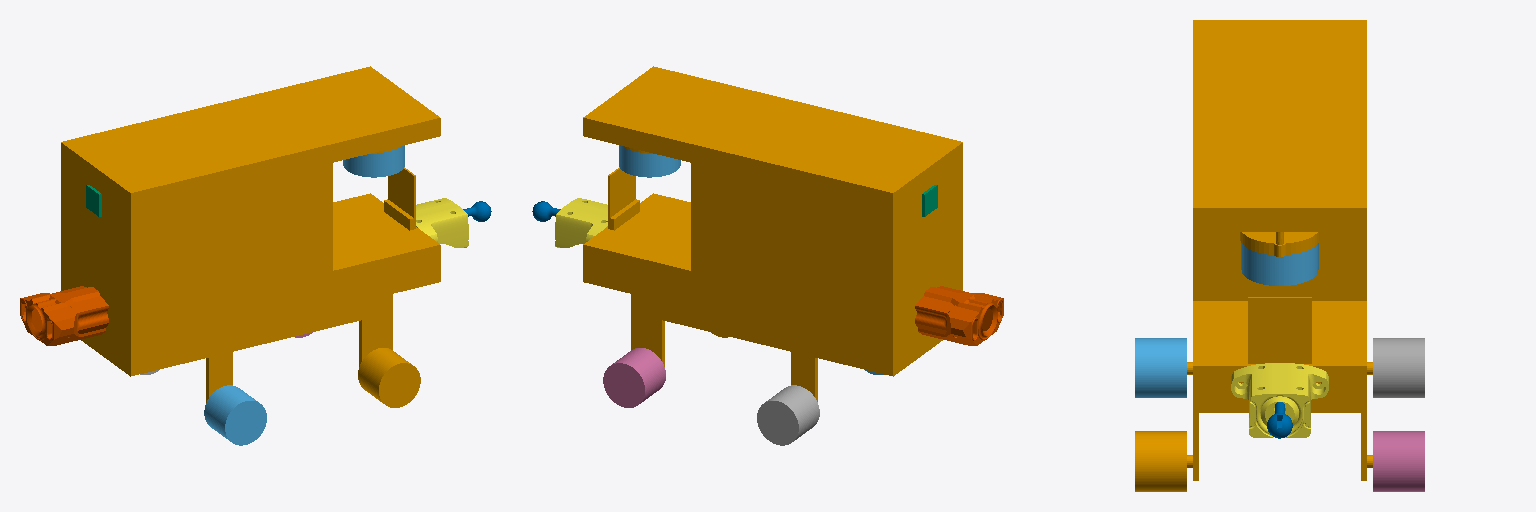
The robot description file, URDF, robot "URDF_to_USD":
<?xml version='1.0' encoding='utf-8'?>
<robot name="URDF_to_USD">
    <link name="teko_body">
        <inertial>
            <origin xyz="-0.03322487786188057 -3.210624819559104e-07 -0.01222742277589171" rpy="0.0 0.0 0.0" />
            <mass value="55.30155380400797" />
            <inertia ixx="0.2786499612735865" iyy="0.6148616643483823" izz="0.5051691379248819" ixy="8.485416470758536e-07" iyz="-2.6893582656831792e-06" ixz="0.01263665637919702" />
        </inertial>
        <visual name="teko_body_visual">
            <origin xyz="0.0 0.0 0.0" rpy="0.0 0.0 0.0" />
            <geometry>
                <mesh filename="meshes/teko_body.stl" scale="0.001 0.001 0.001" />
            </geometry>
        </visual>
        <collision name="teko_body_collision">
            <origin xyz="0.0 0.0 0.0" rpy="0.0 0.0 0.0" />
            <geometry>
                <mesh filename="meshes/teko_body.stl" scale="0.001 0.001 0.001" />
            </geometry>
        </collision>
    </link>
    <link name="teko_lidar">
        <inertial>
            <origin xyz="-1.7763568394002505e-17 -1.0157093023226922e-16 0.013450000000000016" rpy="0.0 -0.0 0.0" />
            <mass value="0.5930812388937148" />
            <inertia ixx="0.00016831843253549243" iyy="0.0001683184325355011" izz="0.0002651102791916809" ixy="-1.417197381670121e-18" iyz="3.2429099405817336e-19" ixz="-4.336808689942018e-19" />
        </inertial>
        <visual name="teko_lidar_visual">
            <origin xyz="-0.1376 0.0 0.0455" rpy="3.141592653589793 -0.0 0.0" />
            <geometry>
                <mesh filename="meshes/teko_lidar.stl" scale="0.001 0.001 0.001" />
            </geometry>
        </visual>
        <collision name="teko_lidar_collision">
            <origin xyz="-0.1376 0.0 0.0455" rpy="3.141592653589793 -0.0 0.0" />
            <geometry>
                <mesh filename="meshes/teko_lidar.stl" scale="0.001 0.001 0.001" />
            </geometry>
        </collision>
    </link>
    <link name="teko_camera">
        <inertial>
            <origin xyz="-1.479114197289397e-33 -0.035 0.0015000000000000213" rpy="0.0 -0.0 0.0" />
            <mass value="0.014130001214191378" />
            <inertia ixx="6.888377646920279e-07" iyy="7.465349676462276e-07" izz="1.414177730516831e-06" ixy="3.5214296447818196e-22" iyz="-2.710505431213761e-20" ixz="-9.151013280472862e-22" />
        </inertial>
        <visual name="teko_camera_visual">
            <origin xyz="-2.6023744481881267e-18 -0.0775 -0.17250000000000001" rpy="-1.5707963267948966 1.5707963267948966 0" />
            <geometry>
                <mesh filename="meshes/teko_camera.stl" scale="0.001 0.001 0.001" />
            </geometry>
        </visual>
        <collision name="teko_camera_collision">
            <origin xyz="-2.6023744481881267e-18 -0.0775 -0.17250000000000001" rpy="-1.5707963267948966 1.5707963267948966 0" />
            <geometry>
                <mesh filename="meshes/teko_camera.stl" scale="0.001 0.001 0.001" />
            </geometry>
        </collision>
    </link>
    <link name="teko_connect_male">
        <inertial>
            <origin xyz="1.2851451110364246e-05 0.012508471421193237 0.028637477444663766" rpy="0.0 -0.0 0.0" />
            <mass value="0.6070410060978664" />
            <inertia ixx="0.00021799578145698453" iyy="0.0003112272271409422" izz="0.00018351696205621887" ixy="1.2573674757801726e-07" iyz="-2.1845249203090826e-05" ixz="-2.9472485848962832e-08" />
        </inertial>
        <visual name="teko_connect_male_visual">
            <origin xyz="0.0004507494942305308 -0.05551125236737327 -0.17250000000000001" rpy="1.5707963267948968 -1.5707963267948966 0" />
            <geometry>
                <mesh filename="meshes/teko_connect_male.stl" scale="0.001 0.001 0.001" />
            </geometry>
        </visual>
        <collision name="teko_connect_male_collision">
            <origin xyz="0.0004507494942305308 -0.05551125236737327 -0.17250000000000001" rpy="1.5707963267948968 -1.5707963267948966 0" />
            <geometry>
                <mesh filename="meshes/teko_connect_male.stl" scale="0.001 0.001 0.001" />
            </geometry>
        </collision>
    </link>
    <link name="teko_pin">
        <inertial>
            <origin xyz="-0.0021138833462986018 4.895877659592601e-06 0.028069331254574975" rpy="0.0 -0.0 0.0" />
            <mass value="0.04124822257656457" />
            <inertia ixx="4.970374219001247e-06" iyy="4.978093813264549e-06" izz="1.401522672915713e-06" ixy="1.8001458984546494e-11" iyz="-1.0585795096708065e-09" ixz="4.563625663486044e-07" />
        </inertial>
        <visual name="teko_pin_visual">
            <origin xyz="0.054917629052547226 0.00022318111558906358 -0.22340000000000002" rpy="-3.141592653589793 -1.5707963267948966 0" />
            <geometry>
                <mesh filename="meshes/teko_pin.stl" scale="0.001 0.001 0.001" />
            </geometry>
        </visual>
        <collision name="teko_pin_collision">
            <origin xyz="0.054917629052547226 0.00022318111558906358 -0.22340000000000002" rpy="-3.141592653589793 -1.5707963267948966 0" />
            <geometry>
                <mesh filename="meshes/teko_pin.stl" scale="0.001 0.001 0.001" />
            </geometry>
        </collision>
    </link>
    <link name="teko_connect_female">
        <inertial>
            <origin xyz="-0.05272051512398969 -0.00014116164225701528 0.029277598163811727" rpy="0.0 -0.0 0.0" />
            <mass value="0.7378276822773233" />
            <inertia ixx="0.0004584022715899243" iyy="0.00035624680955673865" izz="0.0002877800509507389" ixy="1.1841968589660358e-07" iyz="3.5006063005911777e-07" ixz="-9.997220132536636e-06" />
        </inertial>
        <visual name="teko_connect_female_visual">
            <origin xyz="0.01579675177311726 0.0014317706669016526 -0.17256471994939027" rpy="-1.570796326794907 1.5633679107606986 -1.5707963267948968" />
            <geometry>
                <mesh filename="meshes/teko_connect_female.stl" scale="0.001 0.001 0.001" />
            </geometry>
        </visual>
        <collision name="teko_connect_female_collision">
            <origin xyz="0.01579675177311726 0.0014317706669016526 -0.17256471994939027" rpy="-1.570796326794907 1.5633679107606986 -1.5707963267948968" />
            <geometry>
                <mesh filename="meshes/teko_connect_female.stl" scale="0.001 0.001 0.001" />
            </geometry>
        </collision>
    </link>
    <link name="teko_FL">
        <inertial>
            <origin xyz="-3.552713678800501e-17 3.552713678800501e-17 0.020200000000000138" rpy="0.0 -0.0 0.0" />
            <mass value="0.5429860236533911" />
            <inertia ixx="0.000147833694935387" iyy="0.00014783369493538527" izz="0.0001479607118097491" ixy="0.0" iyz="-1.734723475976807e-18" ixz="-1.734723475976807e-18" />
        </inertial>
        <visual name="teko_FL_visual">
            <origin xyz="-0.10093 -0.1625 -0.0723" rpy="1.5707963267948966 -0.0 0.0" />
            <geometry>
                <mesh filename="meshes/teko_FL.stl" scale="0.001 0.001 0.001" />
            </geometry>
        </visual>
        <collision name="teko_FL_collision">
            <origin xyz="-0.10093 -0.1625 -0.0723" rpy="1.5707963267948966 -0.0 0.0" />
            <geometry>
                <mesh filename="meshes/teko_FL.stl" scale="0.001 0.001 0.001" />
            </geometry>
        </collision>
    </link>
    <link name="teko_BL">
        <inertial>
            <origin xyz="-5.329070518200751e-17 3.552713678800501e-17 0.020200000000000155" rpy="0.0 -0.0 0.0" />
            <mass value="0.5429860236533901" />
            <inertia ixx="0.0001478336949353766" iyy="0.0001478336949353818" izz="0.00014796071180974216" ixy="-1.734723475976807e-18" iyz="0.0" ixz="-1.3010426069826053e-18" />
        </inertial>
        <visual name="teko_BL_visual">
            <origin xyz="0.07007 -0.1625 -0.0723" rpy="1.5707963267948966 -0.0 0.0" />
            <geometry>
                <mesh filename="meshes/teko_BL.stl" scale="0.001 0.001 0.001" />
            </geometry>
        </visual>
        <collision name="teko_BL_collision">
            <origin xyz="0.07007 -0.1625 -0.0723" rpy="1.5707963267948966 -0.0 0.0" />
            <geometry>
                <mesh filename="meshes/teko_BL.stl" scale="0.001 0.001 0.001" />
            </geometry>
        </collision>
    </link>
    <link name="teko_FR">
        <inertial>
            <origin xyz="-1.7763568394002505e-17 -7.105427357601002e-17 0.0201" rpy="0.0 -0.0 0.0" />
            <mass value="0.5402979740313447" />
            <inertia ixx="0.00014637604468200477" iyy="0.0001463760446820065" izz="0.00014722823303840726" ixy="-1.734723475976807e-18" iyz="0.0" ixz="1.734723475976807e-18" />
        </inertial>
        <visual name="teko_FR_visual">
            <origin xyz="-0.10093 0.1625 -0.0725" rpy="-1.5707963267948966 -0.0 0.0" />
            <geometry>
                <mesh filename="meshes/teko_FR.stl" scale="0.001 0.001 0.001" />
            </geometry>
        </visual>
        <collision name="teko_FR_collision">
            <origin xyz="-0.10093 0.1625 -0.0725" rpy="-1.5707963267948966 -0.0 0.0" />
            <geometry>
                <mesh filename="meshes/teko_FR.stl" scale="0.001 0.001 0.001" />
            </geometry>
        </collision>
    </link>
    <link name="teko_BR">
        <inertial>
            <origin xyz="-5.329070518200751e-17 -7.105427357601002e-17 0.0201" rpy="0.0 -0.0 0.0" />
            <mass value="0.5402979740313437" />
            <inertia ixx="0.00014637604468200824" iyy="0.00014637604468200477" izz="0.00014722823303840726" ixy="8.673617379884035e-19" iyz="0.0" ixz="0.0" />
        </inertial>
        <visual name="teko_BR_visual">
            <origin xyz="0.07007 0.1625 -0.0725" rpy="-1.5707963267948966 -0.0 0.0" />
            <geometry>
                <mesh filename="meshes/teko_BR.stl" scale="0.001 0.001 0.001" />
            </geometry>
        </visual>
        <collision name="teko_BR_collision">
            <origin xyz="0.07007 0.1625 -0.0725" rpy="-1.5707963267948966 -0.0 0.0" />
            <geometry>
                <mesh filename="meshes/teko_BR.stl" scale="0.001 0.001 0.001" />
            </geometry>
        </collision>
    </link>
    <joint name="teko_connect_male_Deslizador-19" type="prismatic">
        <origin xyz="7.336e-05 0.009346610000000002 0.0509" rpy="0.0 -0.0 -1.5707963267948966" />
        <parent link="teko_connect_male" />
        <child link="teko_pin" />
        <axis xyz="0.0 0.0 1.0" />
        <limit lower="-0.015" upper="0.0" effort="1000000" velocity="1000000" />
    </joint>
    <joint name="teko_body_Rígido-29" type="fixed">
        <origin xyz="0.17250000000000001 0.0 -0.0475" rpy="-1.5707963267948966 -0.0 -1.5707963267948966" />
        <parent link="teko_body" />
        <child link="teko_connect_male" />
    </joint>
    <joint name="teko_body_Rígido-30" type="fixed">
        <origin xyz="-0.17250000000000001 0.0 -0.01" rpy="-0.0 -1.5707963267948966 0" />
        <parent link="teko_body" />
        <child link="teko_connect_female" />
    </joint>
    <joint name="teko_body_Revolucionar-31" type="continuous">
        <origin xyz="0.10093 -0.0725 -0.1625" rpy="1.5707963267948966 -0.0 0.0" />
        <parent link="teko_body" />
        <child link="teko_FR" />
        <axis xyz="0.0 0.0 1.0" />
    </joint>
    <joint name="teko_body_Revolucionar-32" type="continuous">
        <origin xyz="0.10093 0.0723 -0.1625" rpy="-1.5707963267948966 -0.0 0.0" />
        <parent link="teko_body" />
        <child link="teko_FL" />
        <axis xyz="0.0 0.0 1.0" />
    </joint>
    <joint name="teko_body_Revolucionar-33" type="continuous">
        <origin xyz="-0.07007 -0.0725 -0.1625" rpy="1.5707963267948966 -0.0 0.0" />
        <parent link="teko_body" />
        <child link="teko_BR" />
        <axis xyz="0.0 0.0 1.0" />
    </joint>
    <joint name="teko_body_Revolucionar-34" type="continuous">
        <origin xyz="-0.07007 0.0723 -0.1625" rpy="-1.5707963267948966 -0.0 0.0" />
        <parent link="teko_body" />
        <child link="teko_BL" />
        <axis xyz="0.0 0.0 1.0" />
    </joint>
    <joint name="teko_body_Revolucionar-35" type="continuous">
        <origin xyz="0.1376 0.0 0.0455" rpy="3.141592653589793 -0.0 0.0" />
        <parent link="teko_body" />
        <child link="teko_lidar" />
        <axis xyz="0.0 0.0 1.0" />
    </joint>
    <joint name="teko_body_Rígido-36" type="fixed">
        <origin xyz="-0.17250000000000001 0.0 0.08750000000000001" rpy="1.5707963267948966 -0.0 -1.5707963267948966" />
        <parent link="teko_body" />
        <child link="teko_camera" />
    </joint>
</robot>

--- Facts derived from the render (not from the file) ---
Views: 3 orthographic renders of the robot side by side, from view 1: azimuth 30°, elevation 25°; view 2: azimuth 150°, elevation 25°; view 3: azimuth 270°, elevation 25°.
Model URDF_to_USD with 10 links and 9 joints (5 continuous, 1 prismatic, 3 fixed), rooted at teko_body, posed every joint at zero.
Visible links, largest first — view 1: teko_body, teko_connect_female, teko_FR, teko_BR, teko_connect_male, teko_lidar; view 2: teko_body, teko_connect_female, teko_BL, teko_FL, teko_connect_male, teko_lidar; view 3: teko_body, teko_connect_male, teko_FL, teko_FR, teko_BL, teko_BR, teko_lidar, teko_pin.
Boxes of the visible links, left/top/right/bottom form: teko_body: left=61, top=66, right=440, bottom=402; teko_connect_female: left=20, top=286, right=108, bottom=345; teko_FR: left=358, top=348, right=420, bottom=407; teko_BR: left=204, top=385, right=266, bottom=445; teko_connect_male: left=416, top=198, right=468, bottom=247; teko_lidar: left=343, top=145, right=404, bottom=177; teko_body: left=583, top=66, right=962, bottom=401; teko_connect_female: left=915, top=286, right=1003, bottom=345; teko_BL: left=757, top=385, right=819, bottom=445; teko_FL: left=603, top=348, right=665, bottom=407; teko_connect_male: left=555, top=198, right=607, bottom=247; teko_lidar: left=619, top=145, right=680, bottom=177; teko_body: left=1187, top=20, right=1372, bottom=480; teko_connect_male: left=1231, top=363, right=1328, bottom=437; teko_FL: left=1373, top=431, right=1424, bottom=491; teko_FR: left=1135, top=431, right=1186, bottom=491; teko_BL: left=1373, top=338, right=1424, bottom=397; teko_BR: left=1135, top=338, right=1186, bottom=397; teko_lidar: left=1241, top=243, right=1318, bottom=285; teko_pin: left=1267, top=402, right=1292, bottom=438.
Bounding box of the posed robot: 0.5074 × 0.2254 × 0.2733 m (x, y, z).
10 mesh visuals loaded from 10 distinct referenced files (10 binary STL).